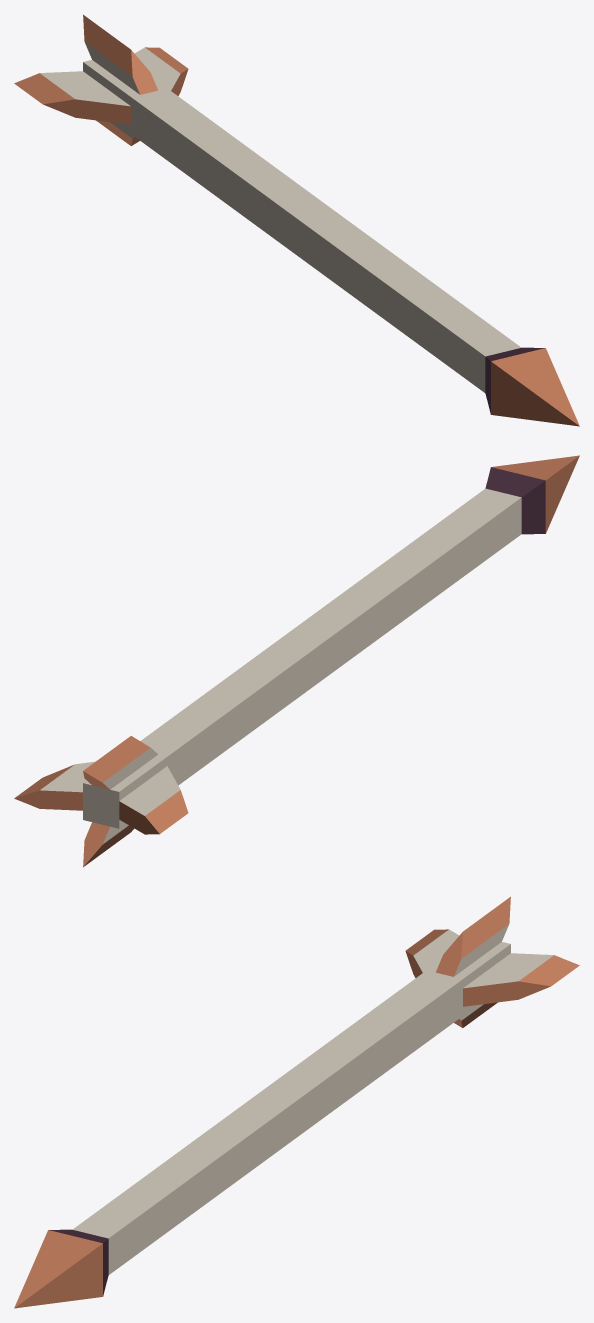
Rendered from missle.glb.
3 views of the same model, one above another, from view 1: azimuth 30°, elevation 25°; view 2: azimuth 150°, elevation 25°; view 3: azimuth 330°, elevation 25° (orthographic).
Parts seen in each view (by area): view 1: Cube; view 2: Cube; view 3: Cube.
Boxes of the visible parts, bbox=[...] form: Cube: bbox=[14, 14, 579, 426]; Cube: bbox=[14, 455, 579, 867]; Cube: bbox=[14, 896, 579, 1308].
Bounding box in the file's own units: 0.8933 × 0.5652 × 5.27.
Materials: 1 (1 with a texture image).
